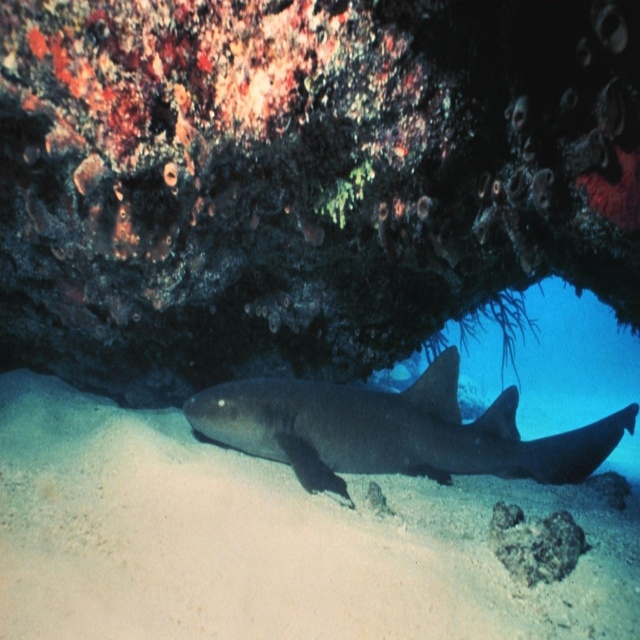Fish: (165, 319, 624, 522)
